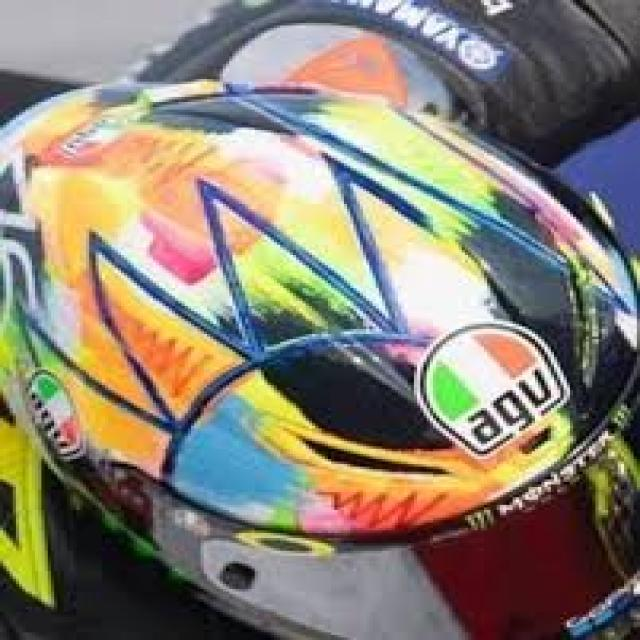Helmet: (3, 81, 637, 640)
